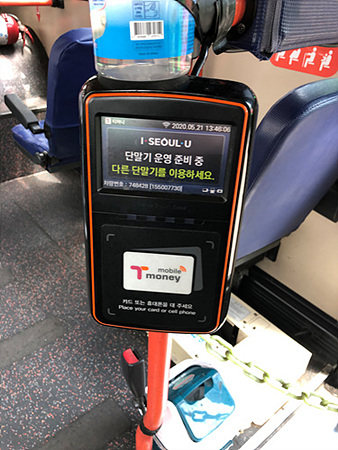terminal: (80, 78, 235, 335)
